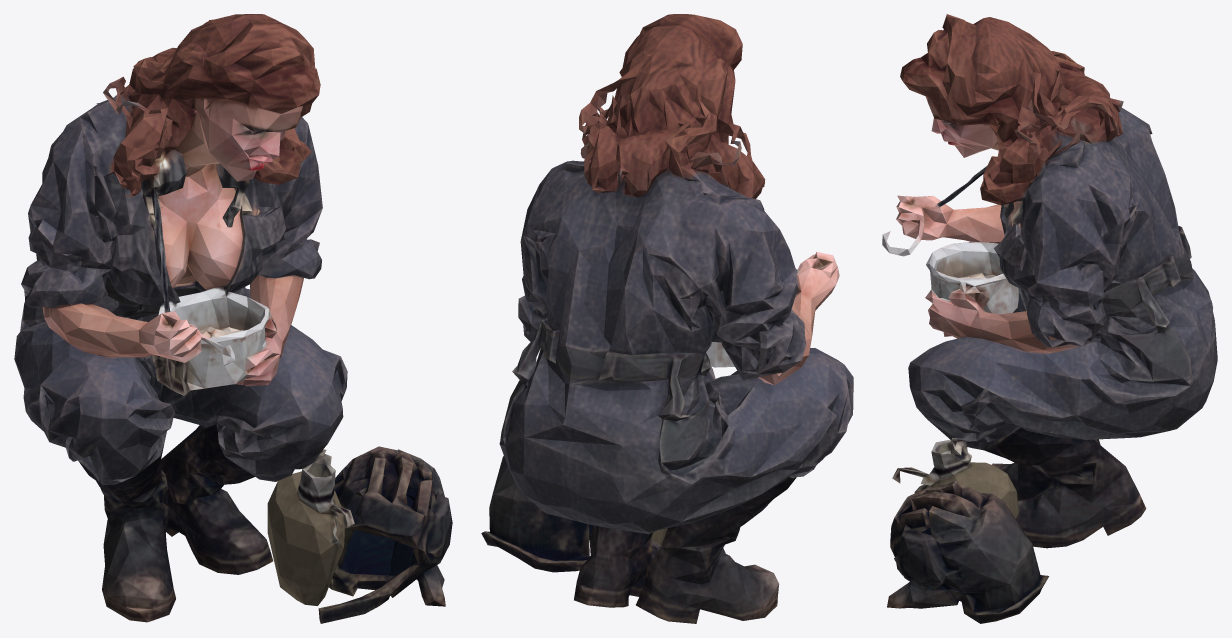
The model's file is crew_su_radio_4_idle.obj.
3 views of the same model, side by side, from view 1: azimuth 30°, elevation 25°; view 2: azimuth 150°, elevation 25°; view 3: azimuth 270°, elevation 25° (orthographic). The views are drawn at different scales.
Visible parts, largest first — view 1: crew_su_radio_4_idle; view 2: crew_su_radio_4_idle; view 3: crew_su_radio_4_idle.
Part boxes in pixels (<box>): crew_su_radio_4_idle: <box>14,14,452,623</box>; crew_su_radio_4_idle: <box>481,14,853,623</box>; crew_su_radio_4_idle: <box>882,14,1217,623</box>.
Bounding box in the file's own units: 0.7411 × 1.12 × 0.6466.
1 material, 1 textured.
